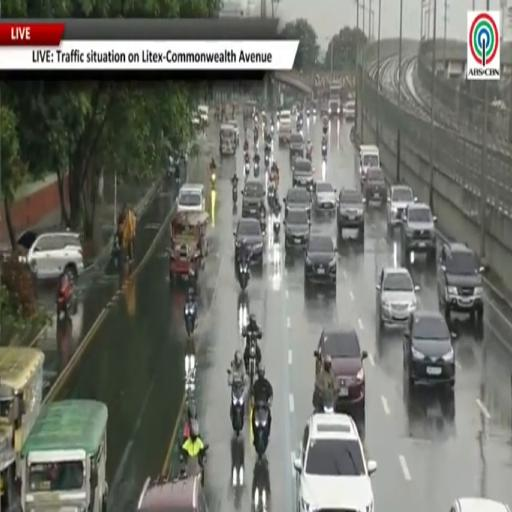car: (294, 414, 377, 511), (314, 326, 367, 420), (403, 310, 455, 388), (438, 243, 485, 324), (18, 230, 83, 281), (376, 267, 419, 328), (137, 475, 208, 511), (401, 203, 436, 265), (304, 234, 336, 292), (337, 189, 365, 239), (234, 218, 263, 265), (387, 185, 417, 230), (284, 208, 310, 250), (363, 167, 387, 206), (242, 180, 265, 219), (176, 184, 206, 212), (284, 187, 311, 218), (450, 498, 510, 511), (313, 182, 336, 214), (292, 158, 314, 191), (289, 133, 304, 167), (228, 120, 239, 146), (343, 100, 355, 120), (198, 105, 208, 125)
jeepney: (21, 399, 107, 511), (0, 347, 44, 495), (220, 124, 236, 155)
motorcycle: (179, 444, 209, 487), (243, 328, 261, 391), (252, 458, 270, 511), (231, 438, 244, 509), (230, 379, 245, 437), (253, 403, 269, 457), (56, 277, 77, 317), (313, 389, 336, 413), (185, 303, 196, 337), (111, 231, 121, 268), (239, 262, 250, 291), (322, 391, 335, 413), (259, 208, 266, 235), (268, 186, 275, 209), (272, 219, 280, 239), (253, 162, 260, 178), (211, 170, 216, 189), (264, 152, 269, 168), (233, 184, 237, 204), (245, 162, 250, 178), (296, 121, 303, 132), (322, 144, 327, 159), (306, 151, 312, 162), (254, 131, 258, 146), (270, 123, 274, 135), (313, 108, 317, 116), (306, 109, 309, 117)
tricycle: (169, 212, 209, 282)
truck: (328, 85, 342, 117), (278, 110, 291, 143)
